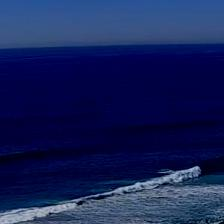surfer: (110, 188, 115, 190), (88, 187, 92, 189)
